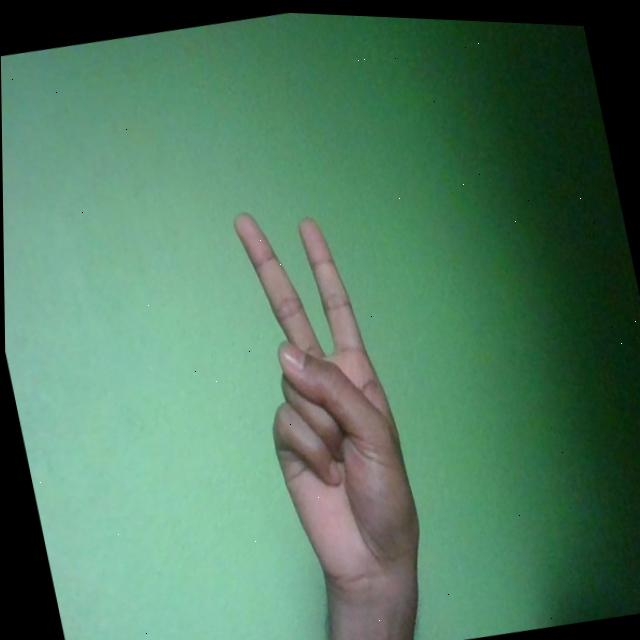Peace: (226, 189, 430, 605)
